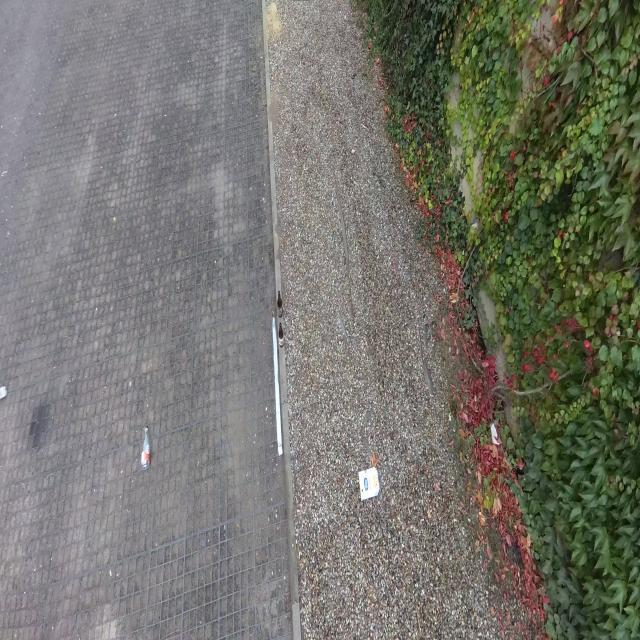rubbish: (271, 317, 284, 456), (357, 466, 380, 500), (141, 427, 150, 471), (276, 292, 283, 315), (278, 322, 284, 347)
